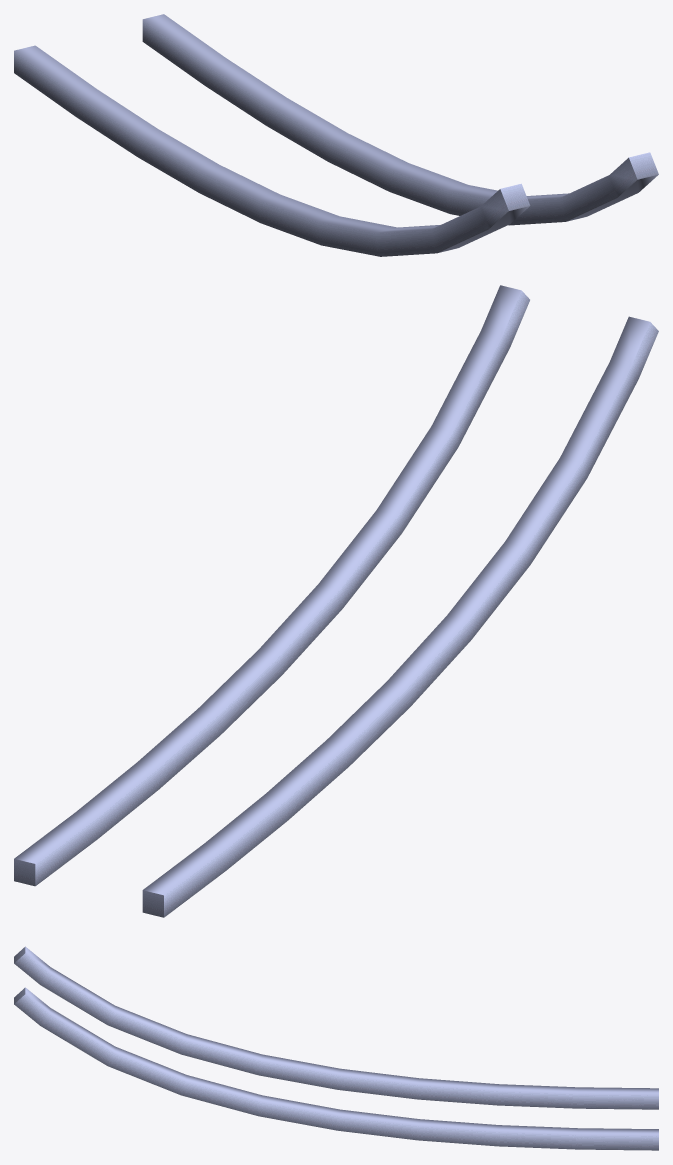
File: railroad-rail-straight-hill-beginning.glb
3 views of the same model, one above another, from view 1: azimuth 30°, elevation 25°; view 2: azimuth 150°, elevation 25°; view 3: azimuth 270°, elevation 25° (orthographic). The views are drawn at different scales.
Visible parts, largest first — view 1: railroad-rail-straight-hill-beginning; view 2: railroad-rail-straight-hill-beginning; view 3: railroad-rail-straight-hill-beginning.
Part boxes in pixels (left/top/right/bottom): railroad-rail-straight-hill-beginning: left=14, top=14, right=658, bottom=256; railroad-rail-straight-hill-beginning: left=14, top=285, right=658, bottom=917; railroad-rail-straight-hill-beginning: left=14, top=946, right=658, bottom=1150.
Bounding box in the file's own units: 0.7 × 1.07 × 4.
1 material, 1 textured.
